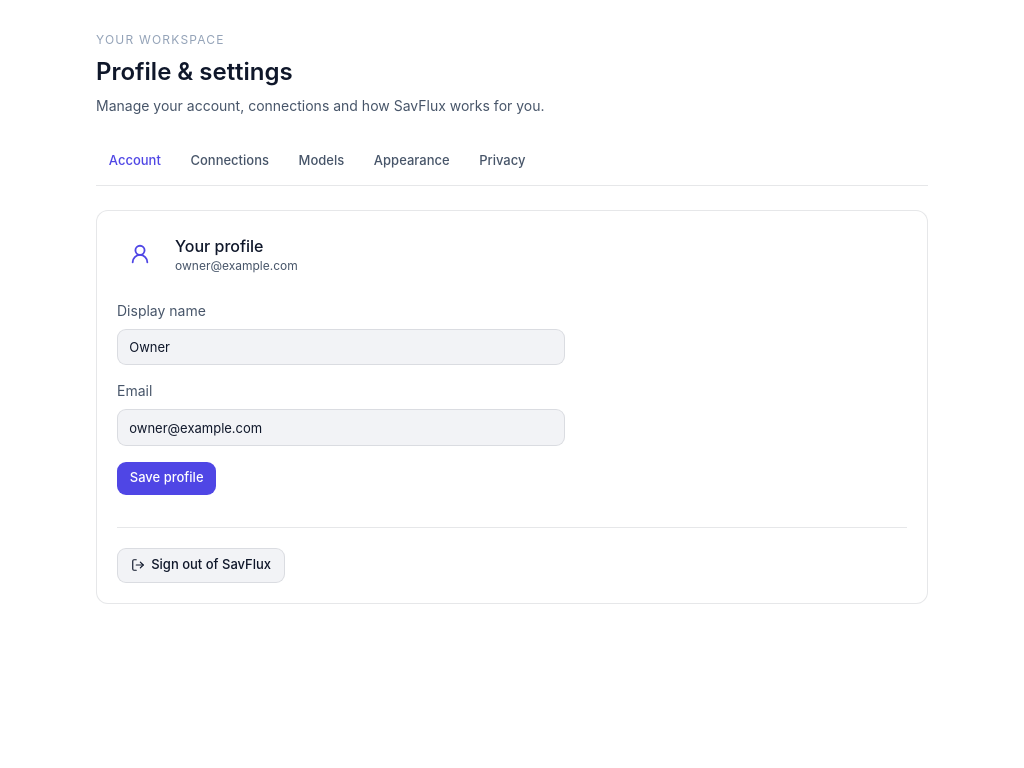
Test case: Profile & settings › saves a display name only on explicit submit
Step 1. Replace the text in the field labelled "Display name" with " New name " → (341, 347), box [117, 329, 565, 365]
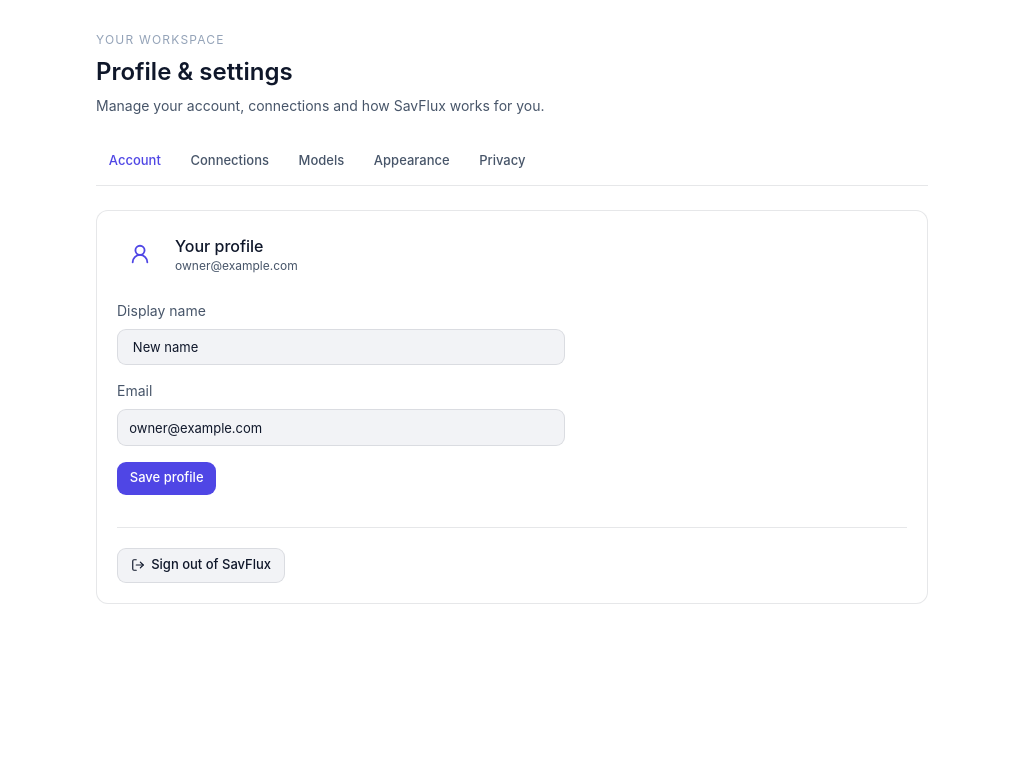
Step 2. Click the button "Save profile" → (167, 478), box [117, 462, 216, 495]
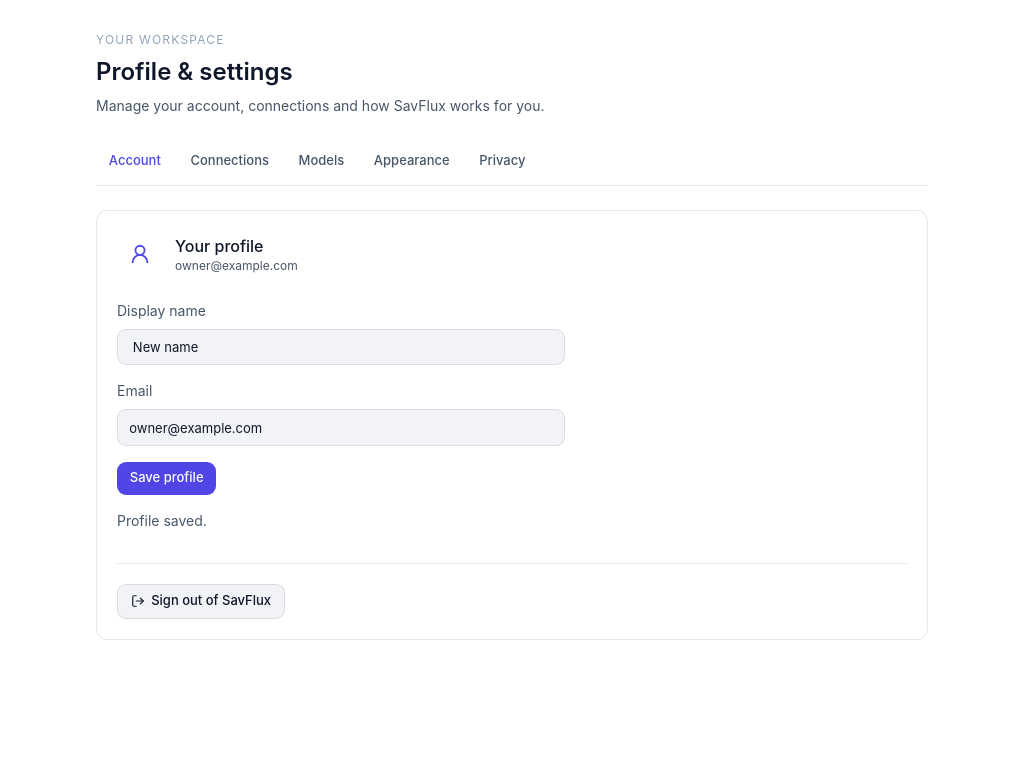
Result: the message shows "Profile saved" at [117, 512, 207, 529]
